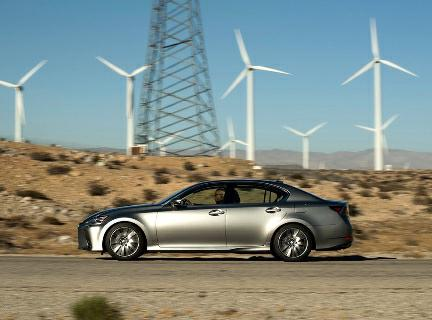雷克萨斯-LS: (69, 171, 360, 265)
